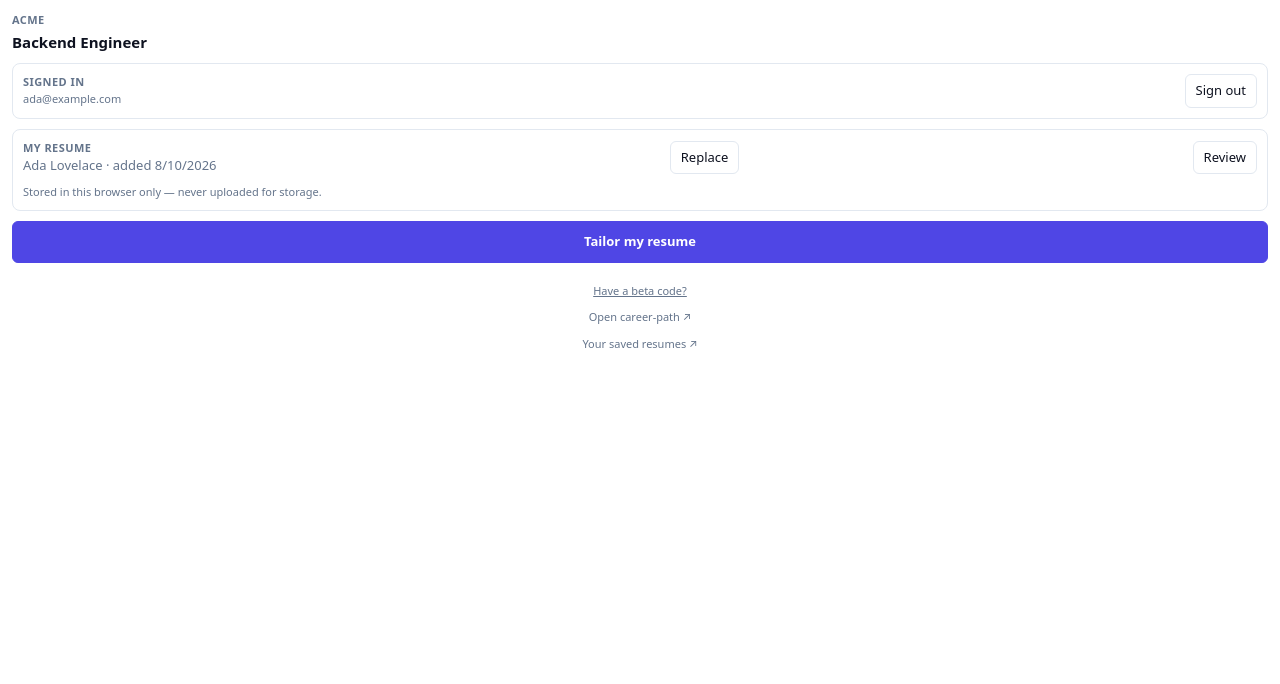
Test: App - account bar, sign-out, and session handling › disables Sign out while a run is in flight, so a mid-run sign-out cannot clear and re-persist the previous session's results
Click the button "Tailor my resume". click: [640, 242]
box: x1=12 y1=221 x2=1268 y2=262
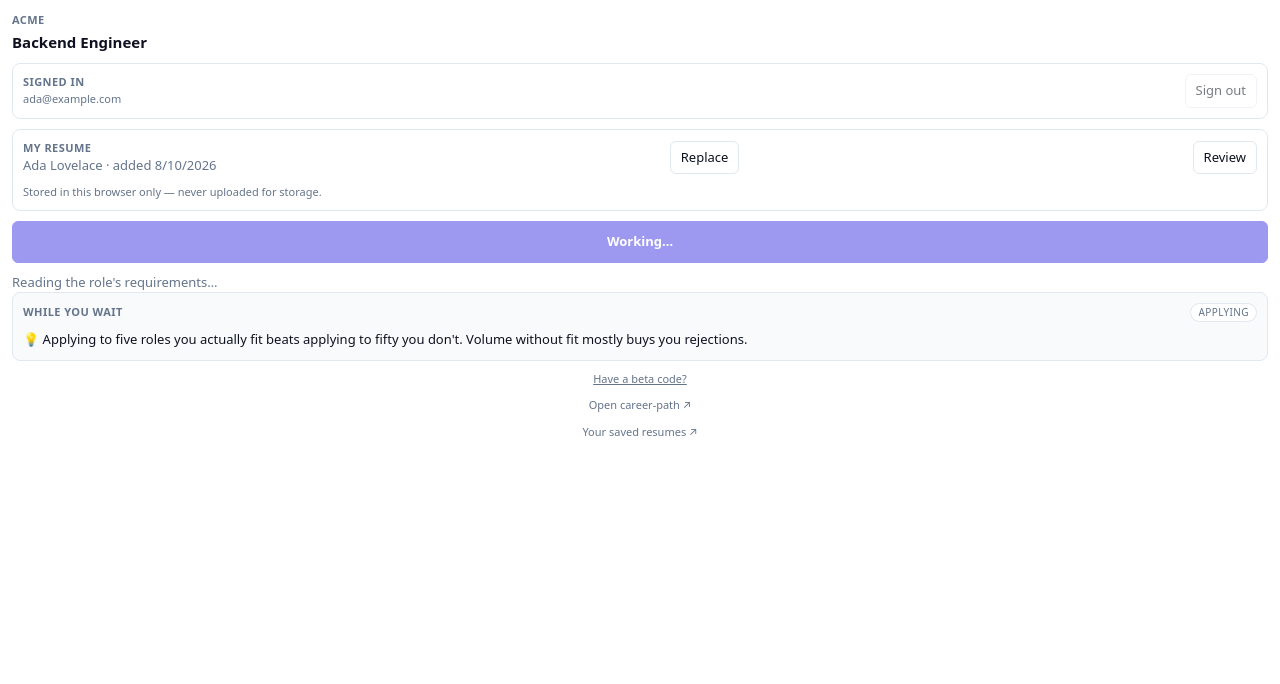
Now the button "Sign out" is disabled
Click the button "Sign out". click: [1221, 91]
box: x1=1184 y1=74 x2=1257 y2=108
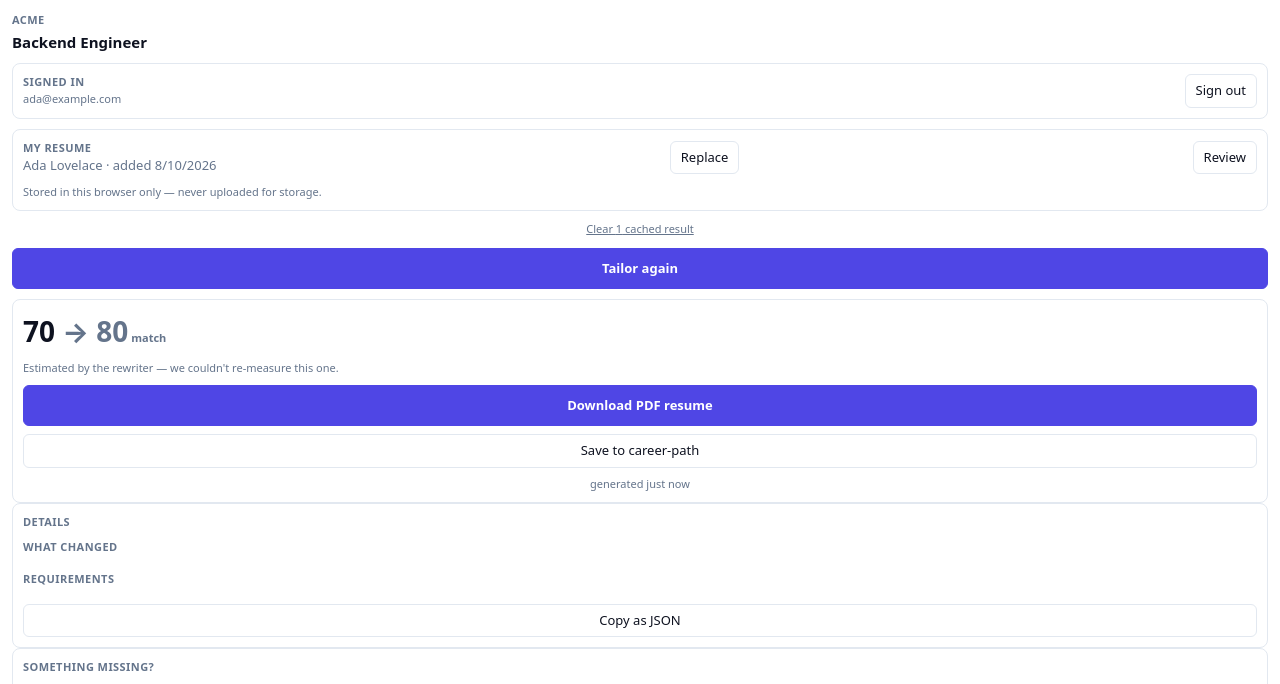
Now the button "Sign out" is enabled, box x1=1184 y1=74 x2=1257 y2=108
